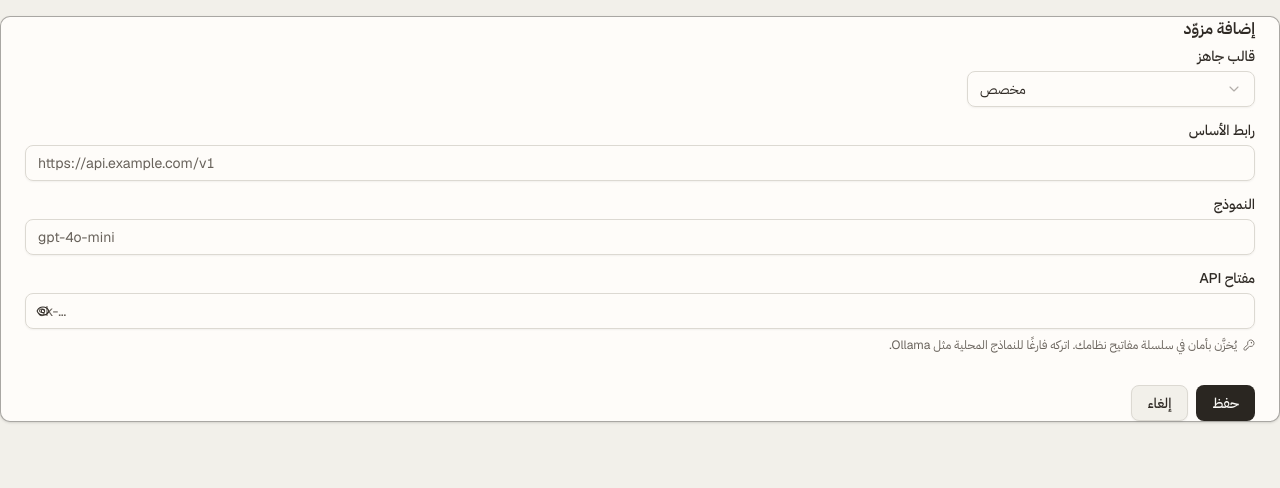
ProviderForm › shows validation messages in Arabic
Click the button "حفظ" at (1226, 403), box [1196, 385, 1255, 421]
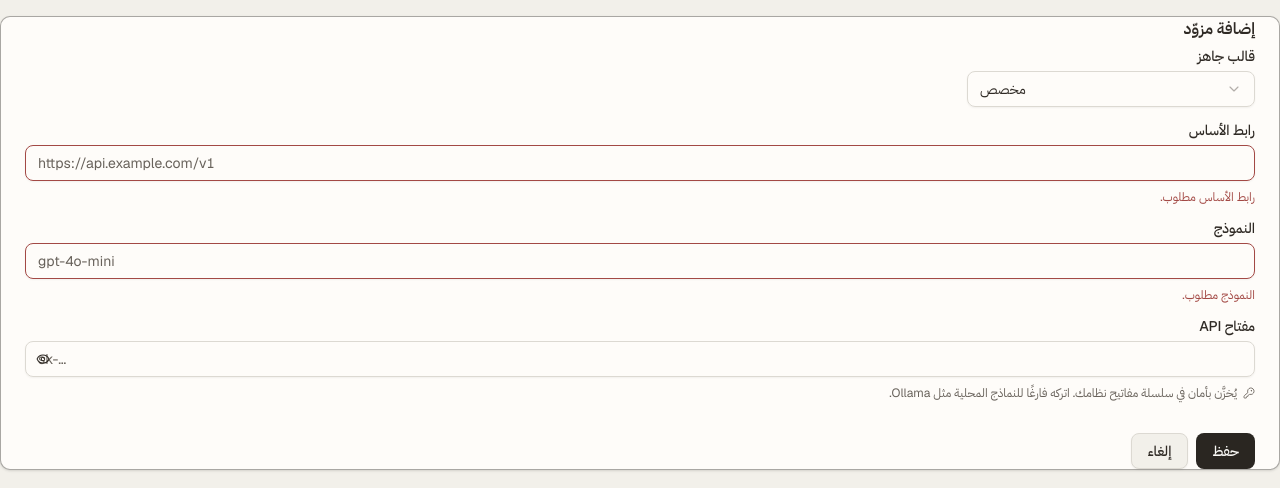
Expected: the text "رابط الأساس مطلوب." is shown, [1160, 189, 1255, 205]
Expected: the text "النموذج مطلوب." is shown, [1182, 287, 1255, 303]
